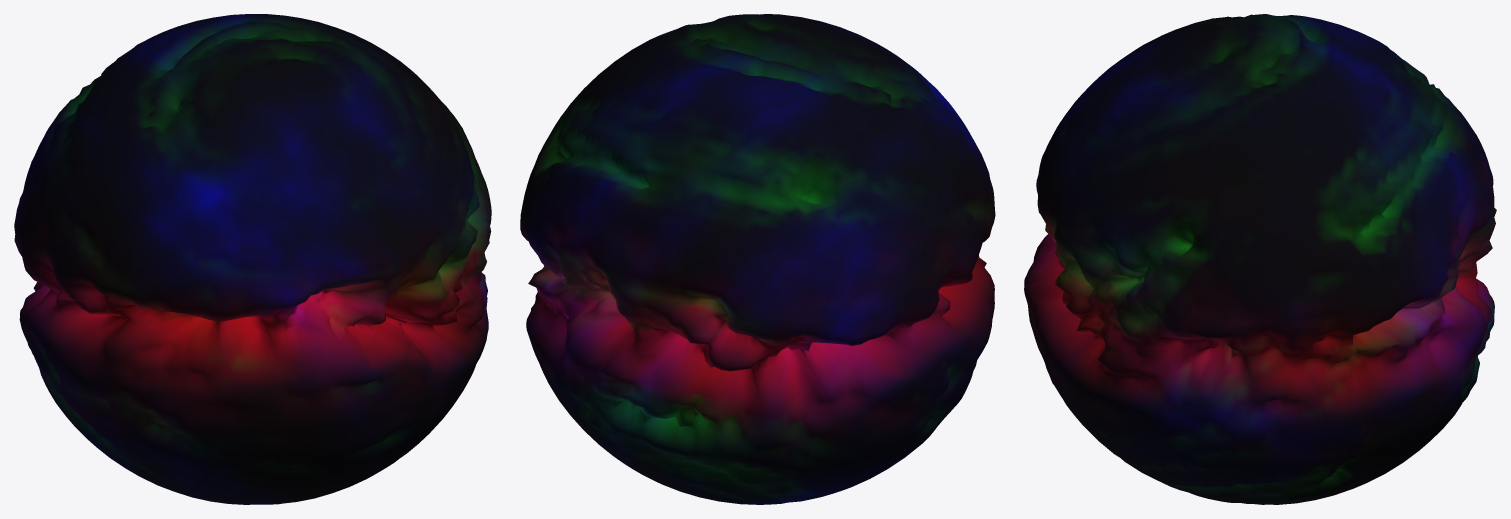
The model's file is StarBG_Mesh.fbx.
The picture shows the model from 3 angles, left to right: view 1: azimuth 30°, elevation 25°; view 2: azimuth 150°, elevation 25°; view 3: azimuth 270°, elevation 25°; orthographic projection.
Parts seen in each view (by area): view 1: StarSphere (7), StarSphere (17), StarSphere (13), StarSphere (14), StarSphere, StarSphere (9), StarSphere (4), StarSphere (12), StarSphere (10), StarSphere (2), StarSphere (8), StarSphere (6) (+1 smaller); view 2: StarSphere (5), StarSphere (6), StarSphere (9), StarSphere (15), StarSphere (12), StarSphere (20), StarSphere (16), StarSphere (8), StarSphere (7), StarSphere (14), StarSphere (11), StarSphere (19) (+3 smaller); view 3: StarSphere (8), StarSphere (11), StarSphere (18), StarSphere, StarSphere (4), StarSphere (20), StarSphere (6), StarSphere (3), StarSphere (15), StarSphere (13), StarSphere (7), StarSphere (19) (+1 smaller).
Boxes of the visible parts, x1,y1,x2,y2 form: StarSphere (7): (109, 40, 364, 240); StarSphere (17): (109, 228, 364, 450); StarSphere (13): (233, 241, 456, 459); StarSphere (14): (34, 229, 232, 455); StarSphere: (256, 39, 467, 240); StarSphere (9): (45, 34, 254, 228); StarSphere (4): (365, 153, 491, 395); StarSphere (12): (14, 131, 108, 358); StarSphere (10): (232, 397, 454, 504); StarSphere (2): (43, 380, 245, 504); StarSphere (8): (257, 14, 464, 133); StarSphere (6): (74, 14, 265, 98); StarSphere (5): (654, 252, 905, 463); StarSphere (6): (560, 40, 782, 251); StarSphere (9): (760, 39, 973, 251); StarSphere (15): (559, 197, 782, 432); StarSphere (12): (783, 179, 980, 425); StarSphere (20): (526, 198, 653, 436); StarSphere (16): (653, 426, 905, 504); StarSphere (8): (551, 25, 759, 196); StarSphere (7): (760, 19, 974, 178); StarSphere (14): (906, 180, 995, 426); StarSphere (11): (520, 118, 567, 309); StarSphere (19): (563, 406, 697, 496); StarSphere (8): (1198, 39, 1441, 247); StarSphere (11): (1199, 214, 1441, 444); StarSphere (18): (1087, 248, 1331, 462); StarSphere: (1045, 36, 1264, 247); StarSphere (4): (1037, 160, 1198, 412); StarSphere (20): (1332, 214, 1491, 446); StarSphere (6): (1265, 28, 1473, 213); StarSphere (3): (1087, 413, 1331, 504); StarSphere (15): (1442, 126, 1496, 331); StarSphere (13): (1024, 160, 1086, 412); StarSphere (7): (1046, 16, 1263, 158); StarSphere (19): (1299, 403, 1462, 502).
Size of the model in its own units: 7754 by 7995 by 7679.
